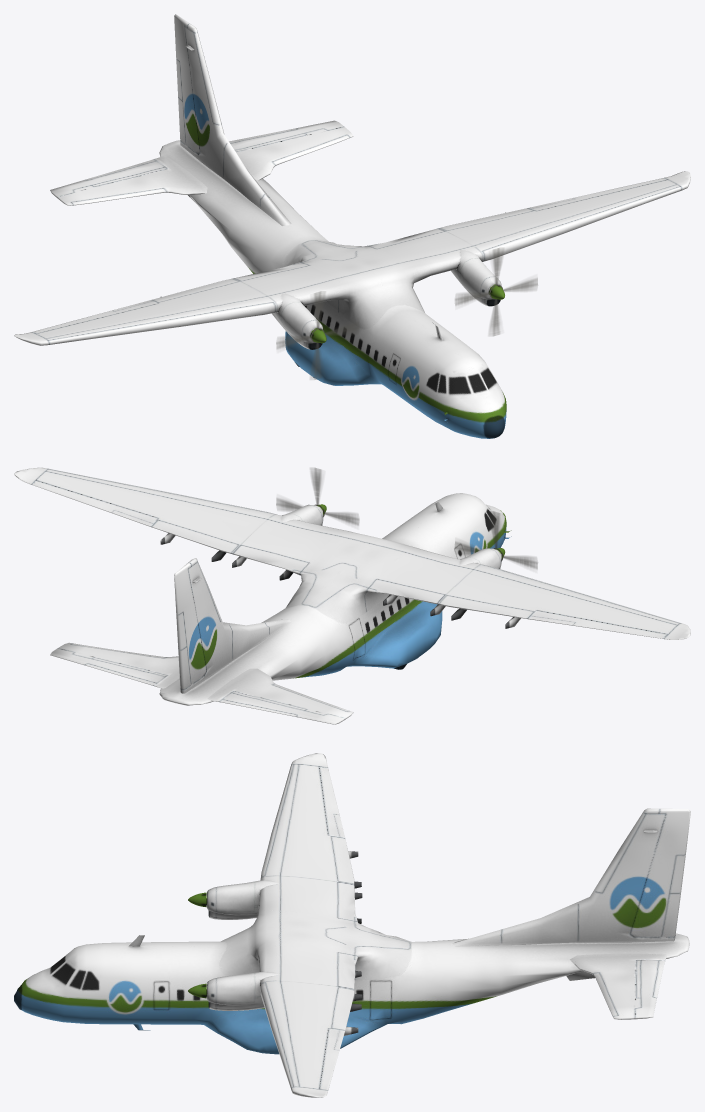
File: model_air.glb
3 renders of one model, top to bottom at view 1: azimuth 30°, elevation 25°; view 2: azimuth 150°, elevation 25°; view 3: azimuth 270°, elevation 25°, orthographic. The views are drawn at different scales.
Visible parts, largest first — view 1: Cesium_Air, Prop, Prop__2_; view 2: Cesium_Air, Prop__2_, Prop; view 3: Cesium_Air.
Part boxes in pixels (x1,y1,x2,y2): Cesium_Air: (14,14,690,438); Prop: (276,291,359,379); Prop__2_: (455,248,537,336); Cesium_Air: (14,467,690,724); Prop__2_: (276,468,359,525); Prop: (455,511,537,569); Cesium_Air: (14,753,690,1097).
Size of the model in its own units: 25.74 by 7.76 by 21.4.
Materials: 2 (2 with a texture image).
